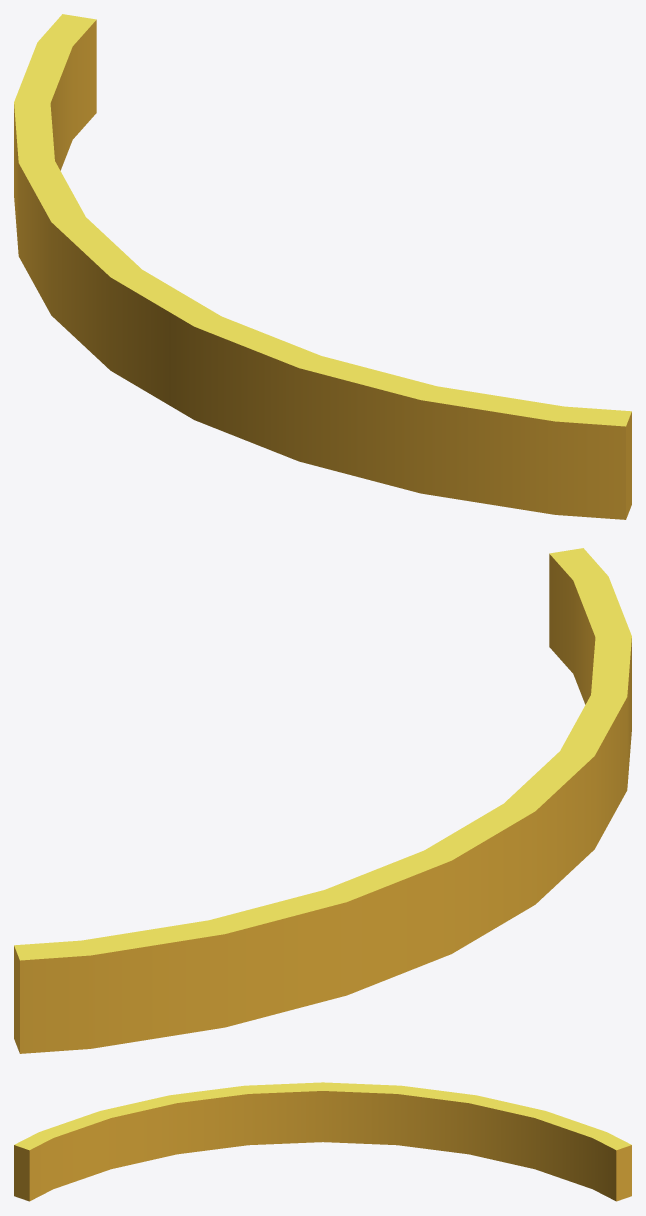
File: battle_stage_18_wall.fbx
The picture shows the model from 3 angles, top to bottom: view 1: azimuth 30°, elevation 25°; view 2: azimuth 150°, elevation 25°; view 3: azimuth 270°, elevation 25°; orthographic projection. The views are drawn at different scales.
Parts seen in each view (by area): view 1: Cylinder.056; view 2: Cylinder.056; view 3: Cylinder.056.
Boxes of the visible parts, box(x1,y1,x2,y2) form: Cylinder.056: box(14, 14, 631, 519); Cylinder.056: box(14, 548, 631, 1053); Cylinder.056: box(14, 1082, 631, 1201).
Bounding box in the file's own units: 569 × 200 × 2187.
